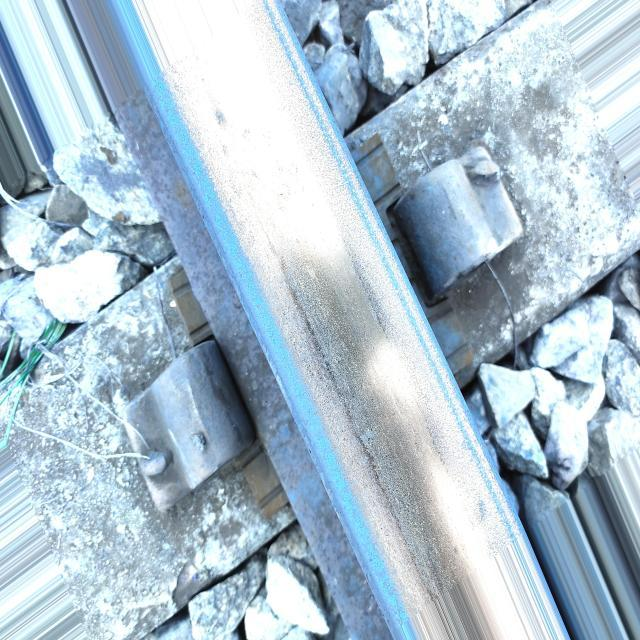Missing Fastener: (90, 311, 267, 542), (364, 134, 548, 303)
